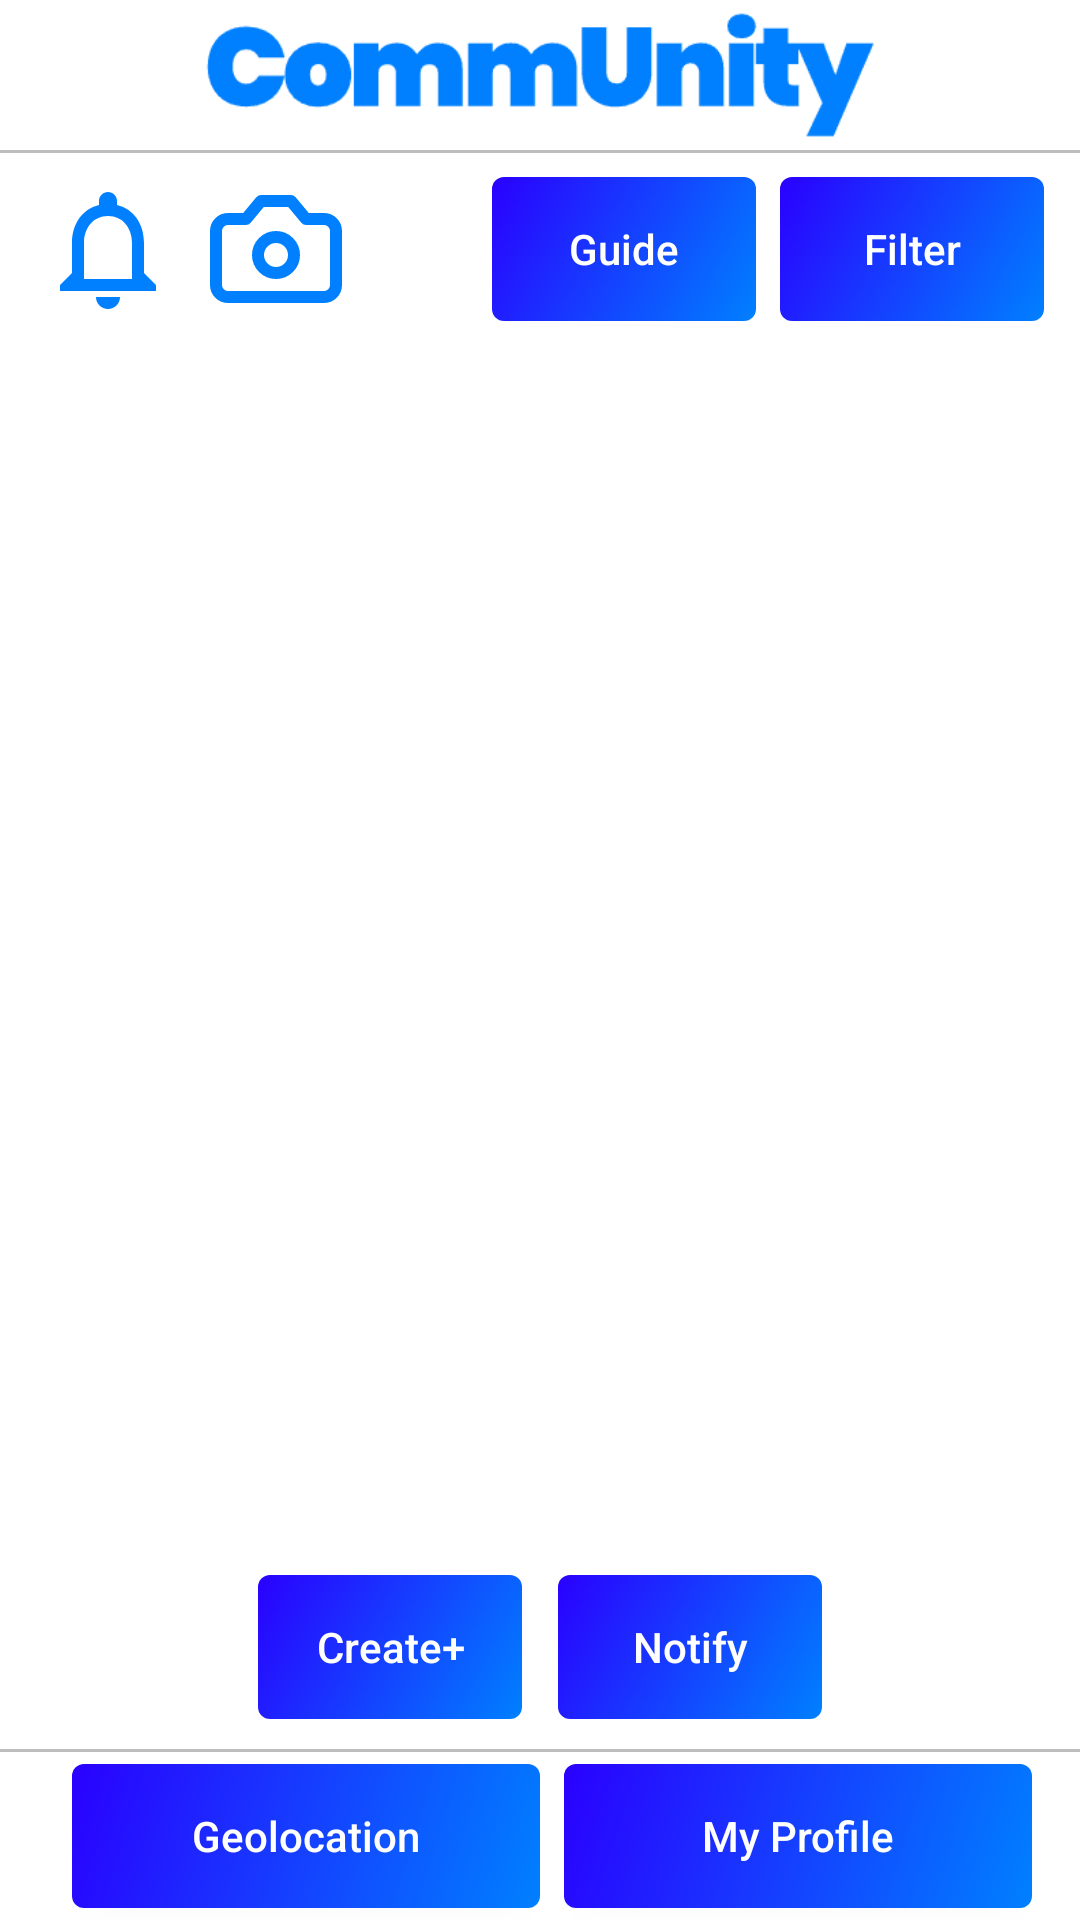

Named icons in this screenshot (1080x1920) and their bounding boxes, (x1, y1, x2, y2):
Notification: (60, 192, 156, 309)
